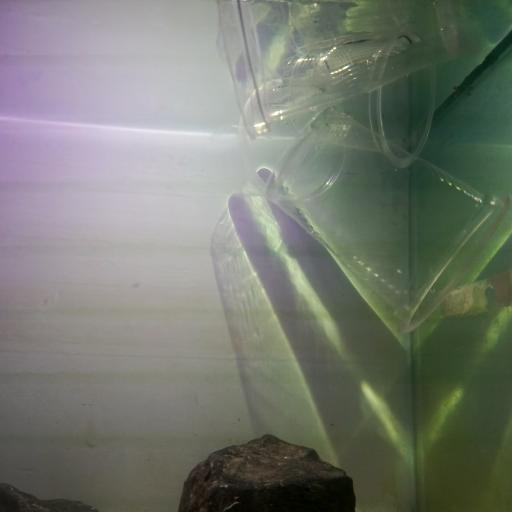plastic_cup: (260, 103, 512, 337), (216, 0, 467, 142), (276, 22, 437, 169), (207, 78, 346, 202)
